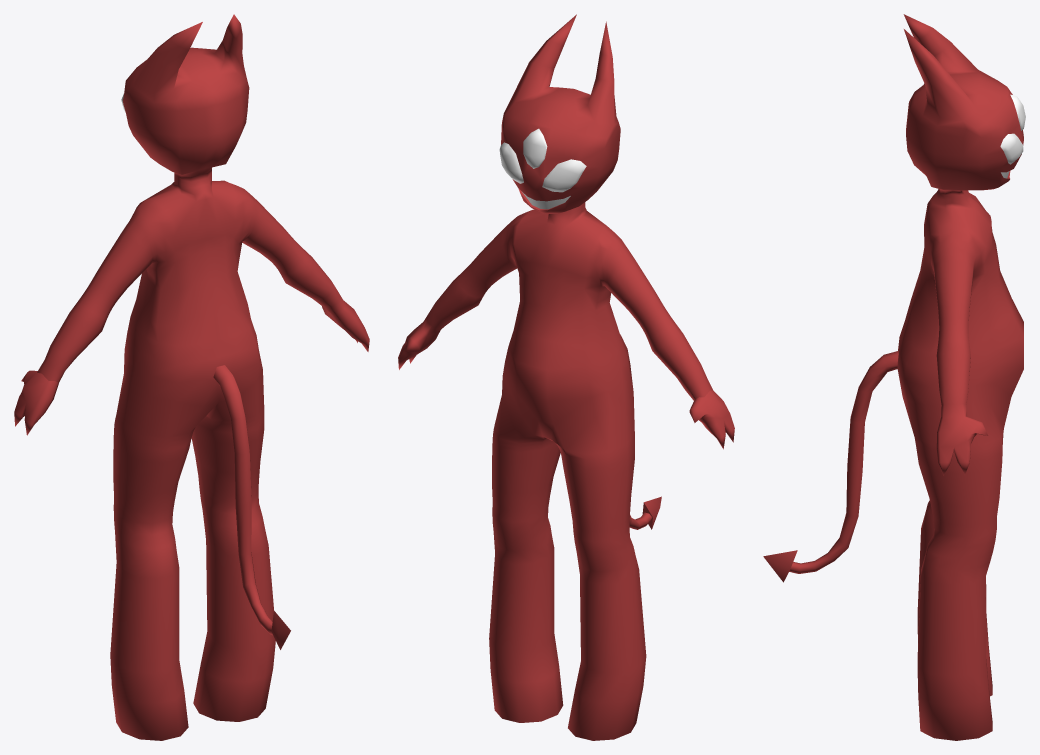
File: Imp(hastail.noUV).fbx
The picture shows the model from 3 angles, left to right: view 1: azimuth 30°, elevation 25°; view 2: azimuth 150°, elevation 25°; view 3: azimuth 270°, elevation 25°; orthographic projection. The views are drawn at different scales.
Parts seen in each view (by area): view 1: pCube9; view 2: pCube9; view 3: pCube9.
Part boxes in pixels (left/top/right/bottom): pCube9: left=14, top=14, right=369, bottom=740; pCube9: left=398, top=14, right=734, bottom=740; pCube9: left=763, top=14, right=1025, bottom=740.
Bounding box in the file's own units: 11.16 × 22.33 × 7.74.
